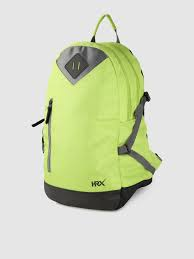backpack: (31, 13, 162, 210)
